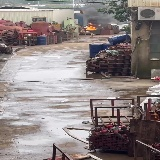fire: (85, 26, 97, 30)
